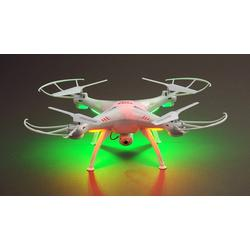drone: (24, 76, 229, 171)
